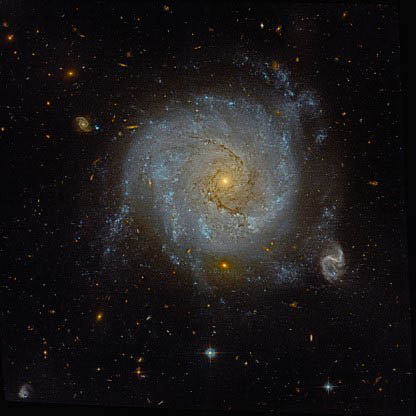NGC 1309: (50, 61, 367, 318)
